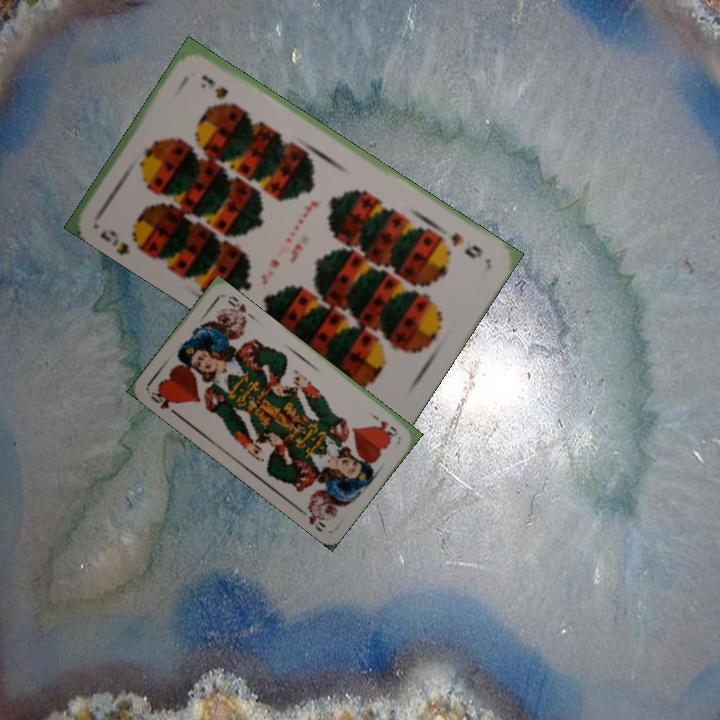HO: (146, 386, 180, 417), (367, 409, 400, 439)
S9: (96, 225, 148, 257), (446, 228, 485, 262)
